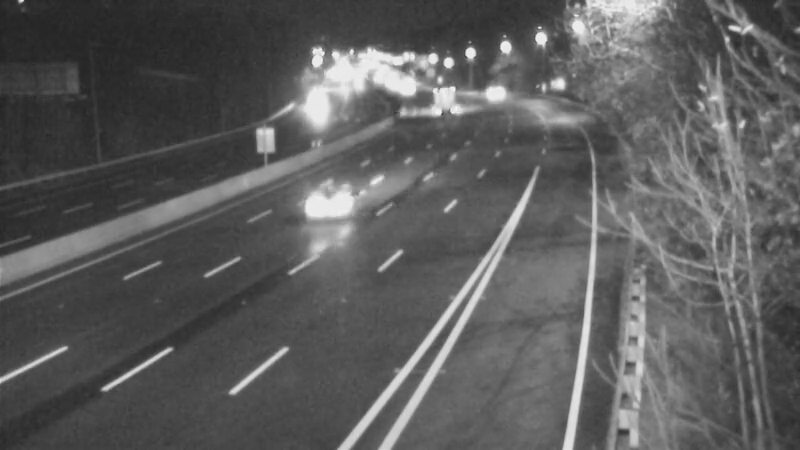vehicle: (284, 162, 364, 242), (419, 63, 469, 113), (472, 64, 522, 114), (291, 81, 341, 131)
